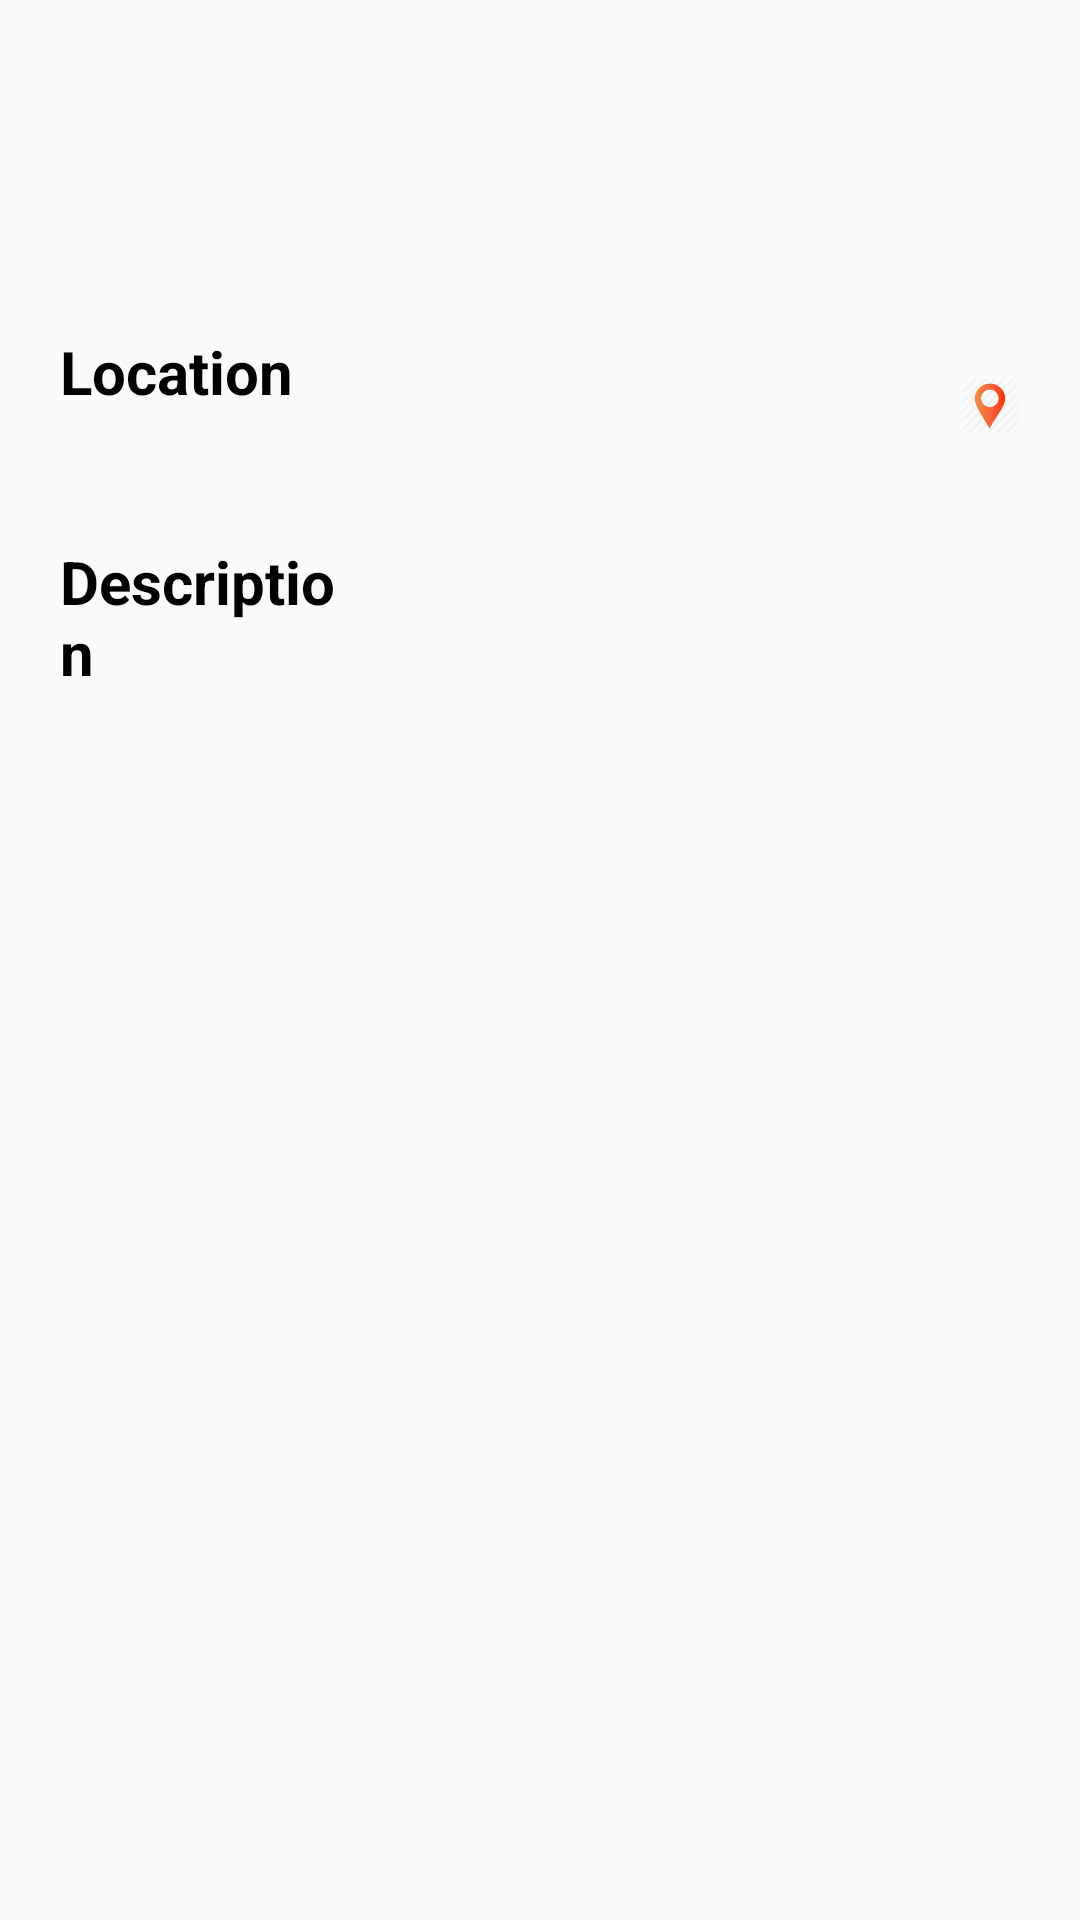

Named icons in this screenshot (1080px×1920px) and their bounding boxes, (x1, y1, x2, y2):
location: (974, 383, 1006, 428)
